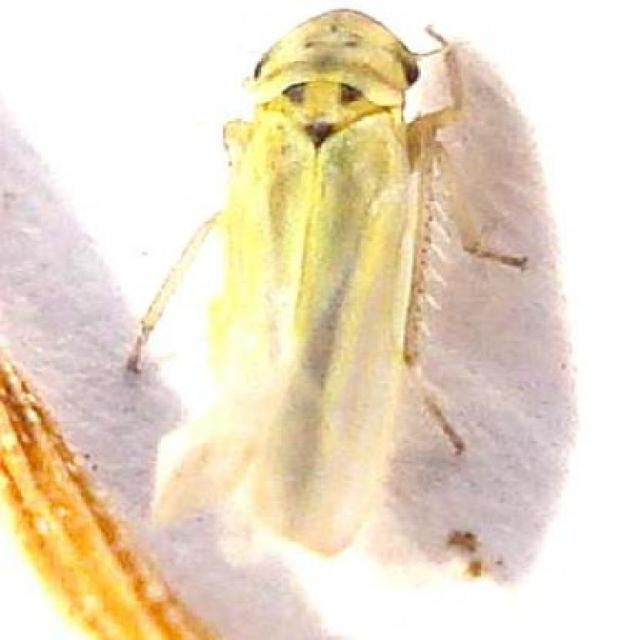green-leafhopper: (190, 15, 484, 534)
